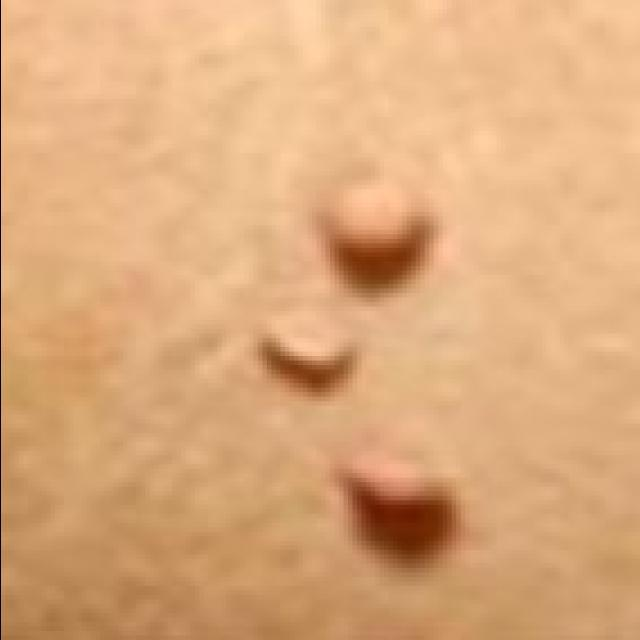wart: (329, 162, 437, 280), (347, 433, 451, 550), (262, 320, 361, 392)
